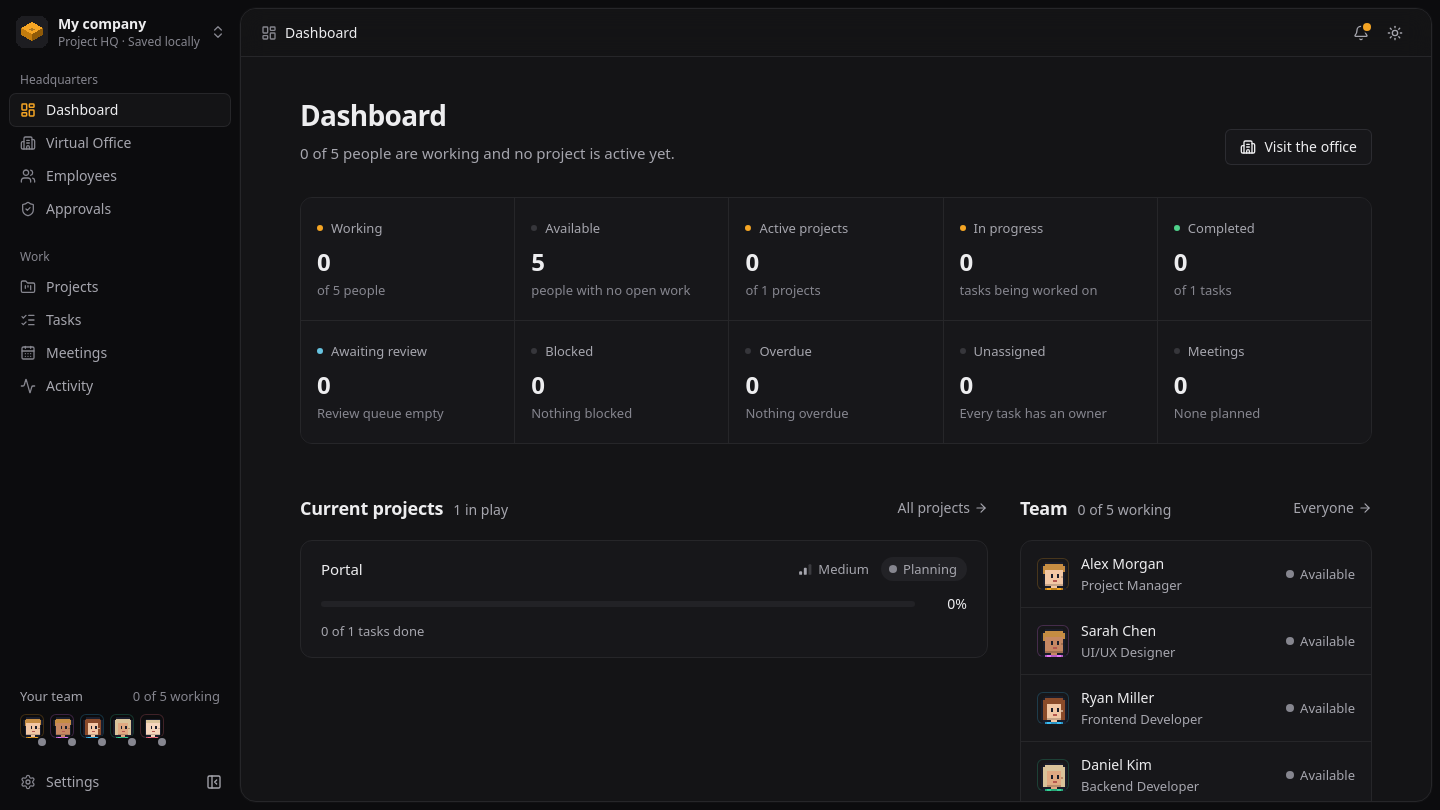
Scenario: dashboard › marks all notifications read from the top bar
Step 1. Click the button named "Notifications, 2 unread" → [1361, 32], box [1345,16,1377,48]
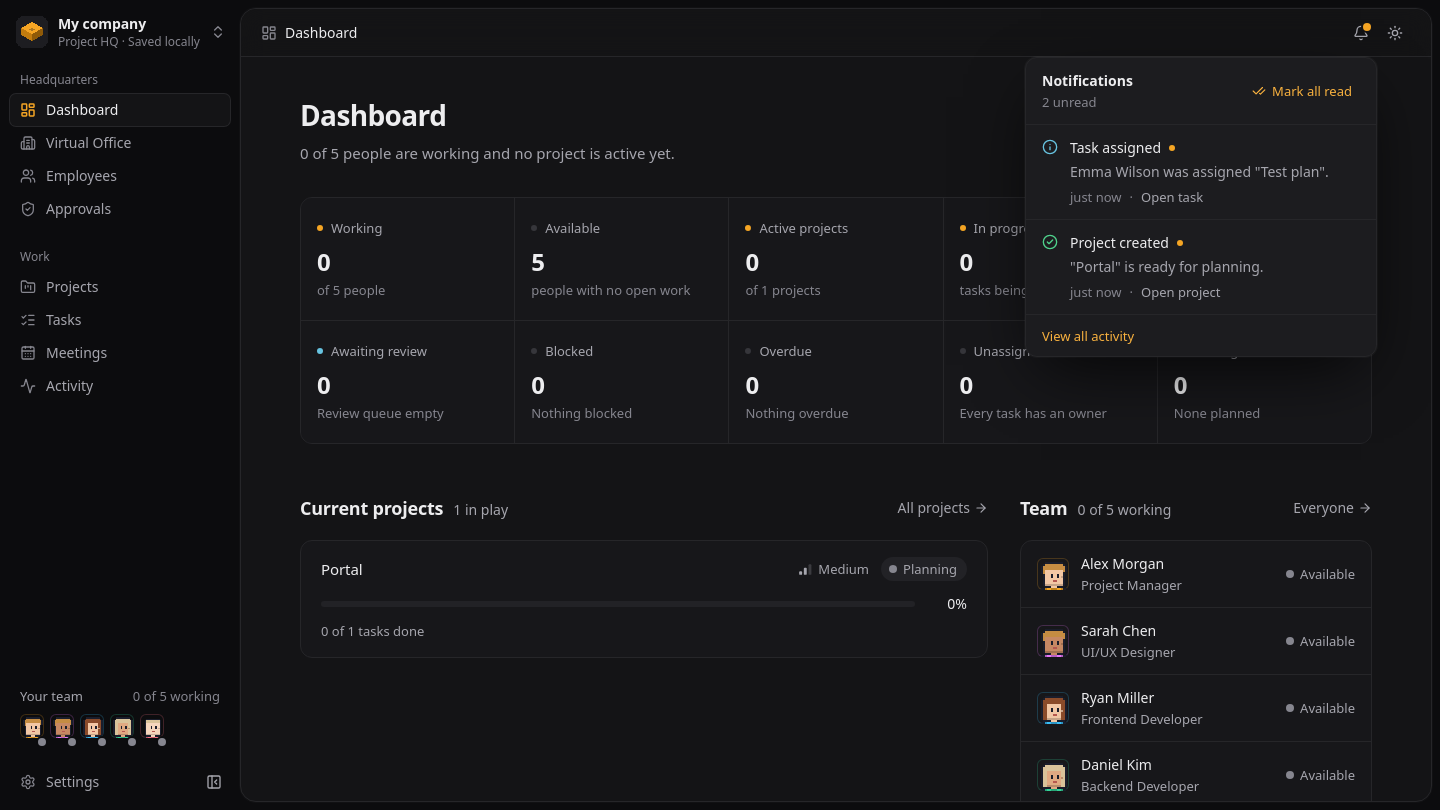
Step 2. Click the button "Mark all read" → [1302, 90], box [1244,76,1360,104]
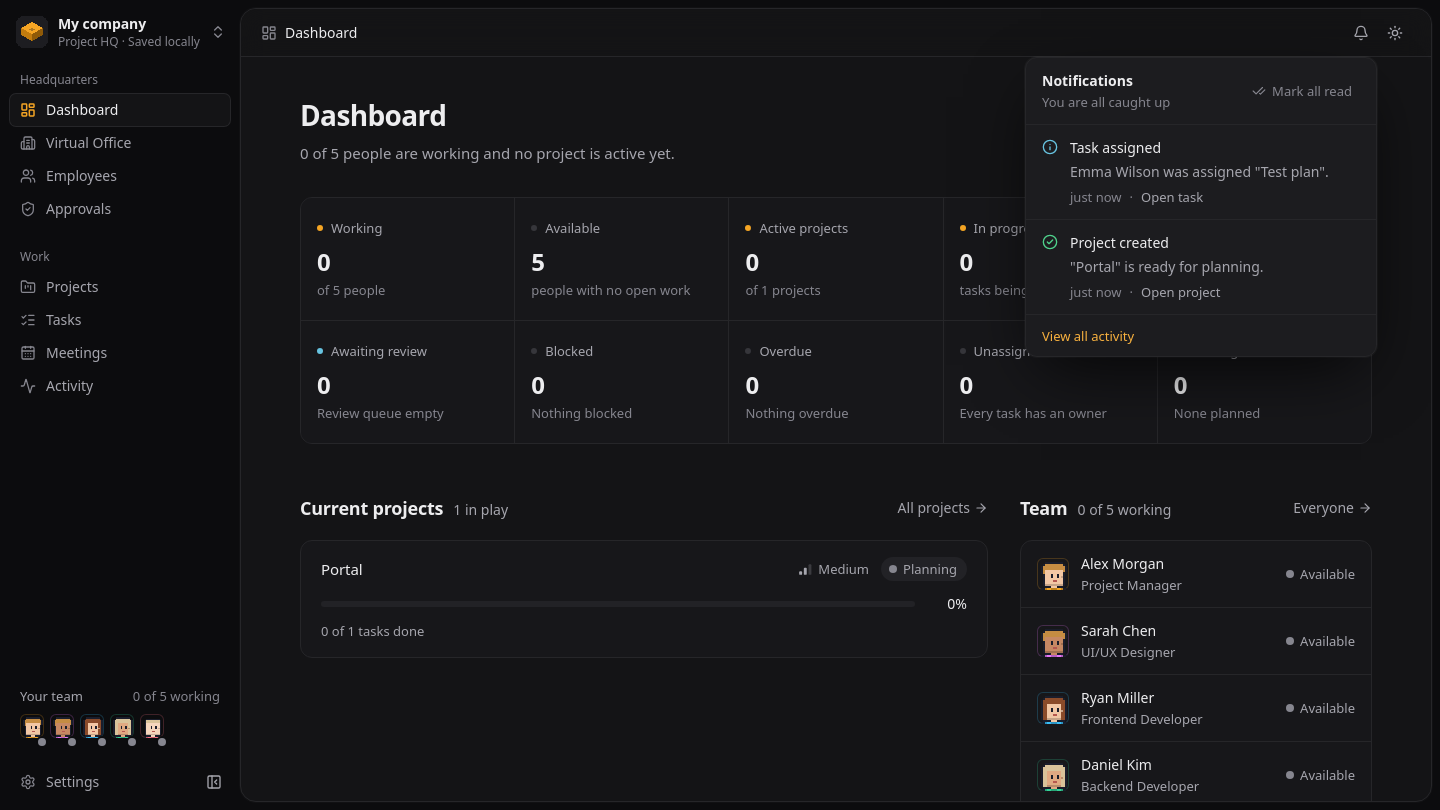
Check: the button named "Notifications" is shown, box [1345,16,1377,48]
Check: the text "You are all caught up" is shown, box [1042,92,1170,112]
